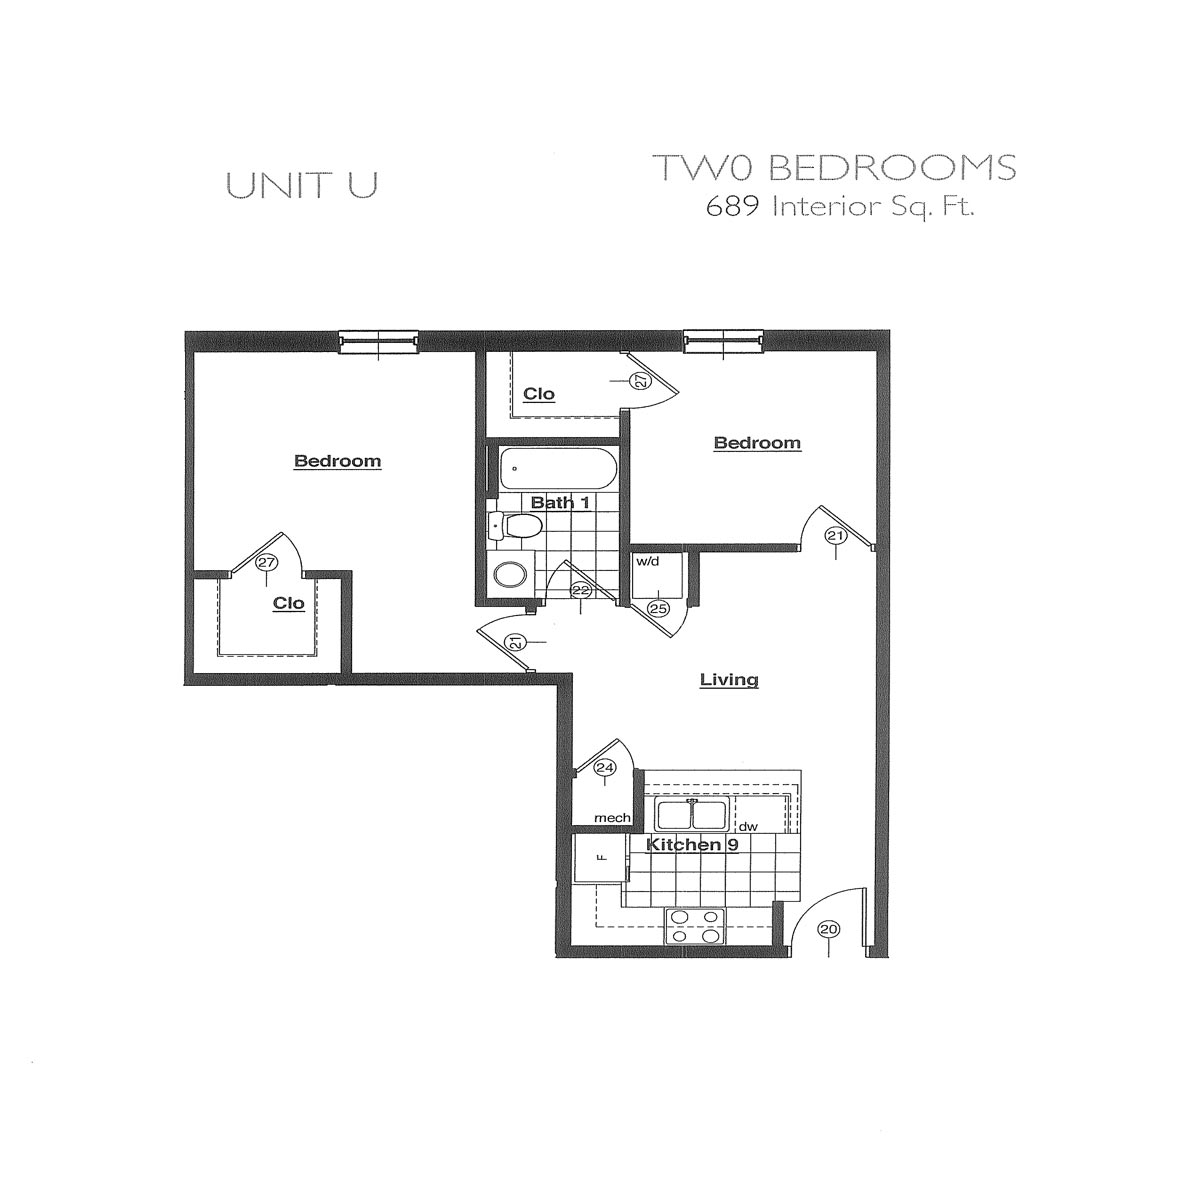wall: (874, 548, 891, 949), (415, 327, 682, 352), (552, 676, 574, 963), (556, 943, 784, 962), (619, 405, 634, 602), (348, 674, 576, 687), (760, 326, 889, 349), (182, 330, 337, 348), (880, 330, 893, 547), (185, 673, 349, 689), (182, 330, 193, 565), (476, 352, 485, 615), (695, 537, 800, 556), (182, 563, 195, 684), (476, 589, 534, 610), (338, 578, 349, 676), (630, 543, 697, 558), (300, 565, 352, 584), (484, 432, 622, 438), (689, 547, 700, 610)
